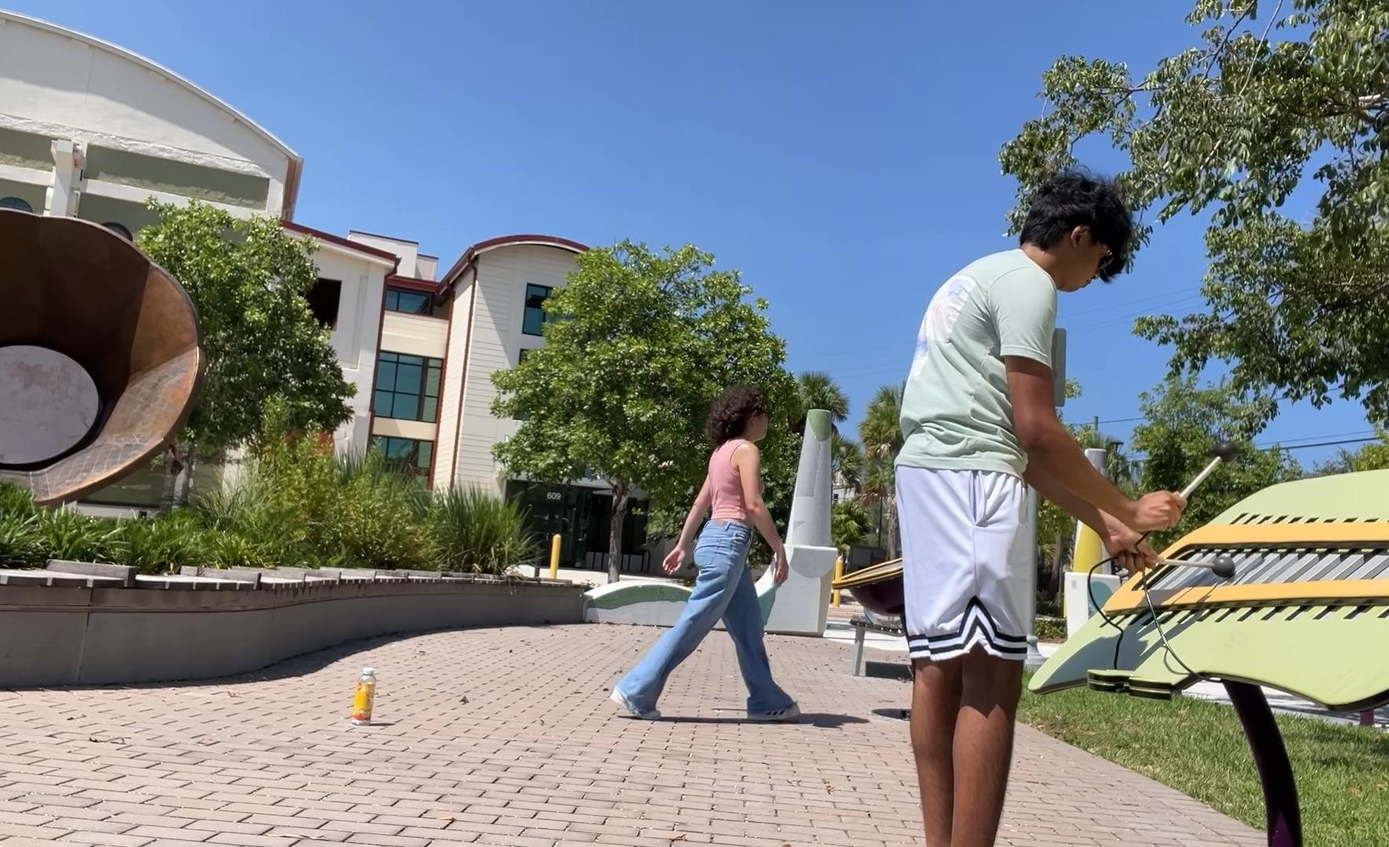Trash: (338, 651, 398, 736)
